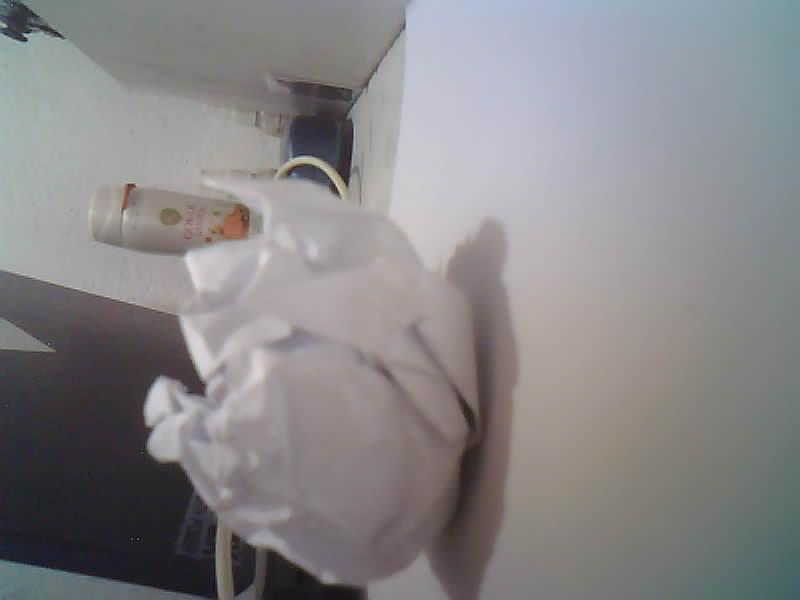biodegradable: (144, 178, 480, 586)
